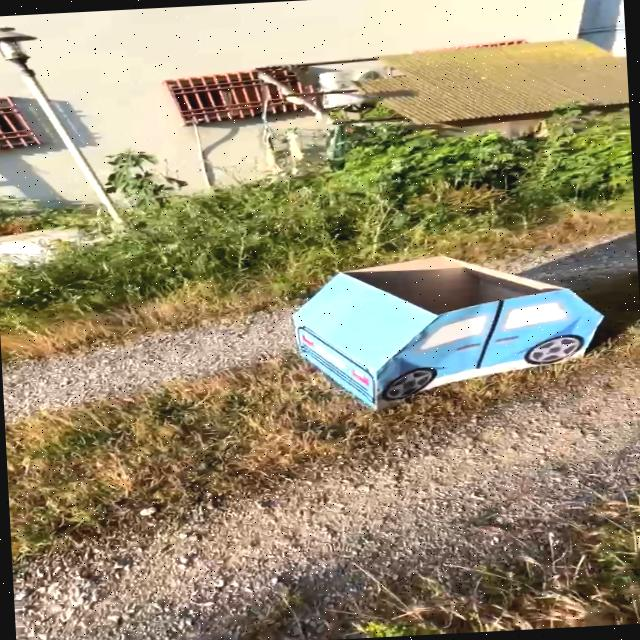blue_car: (224, 229, 640, 430)
